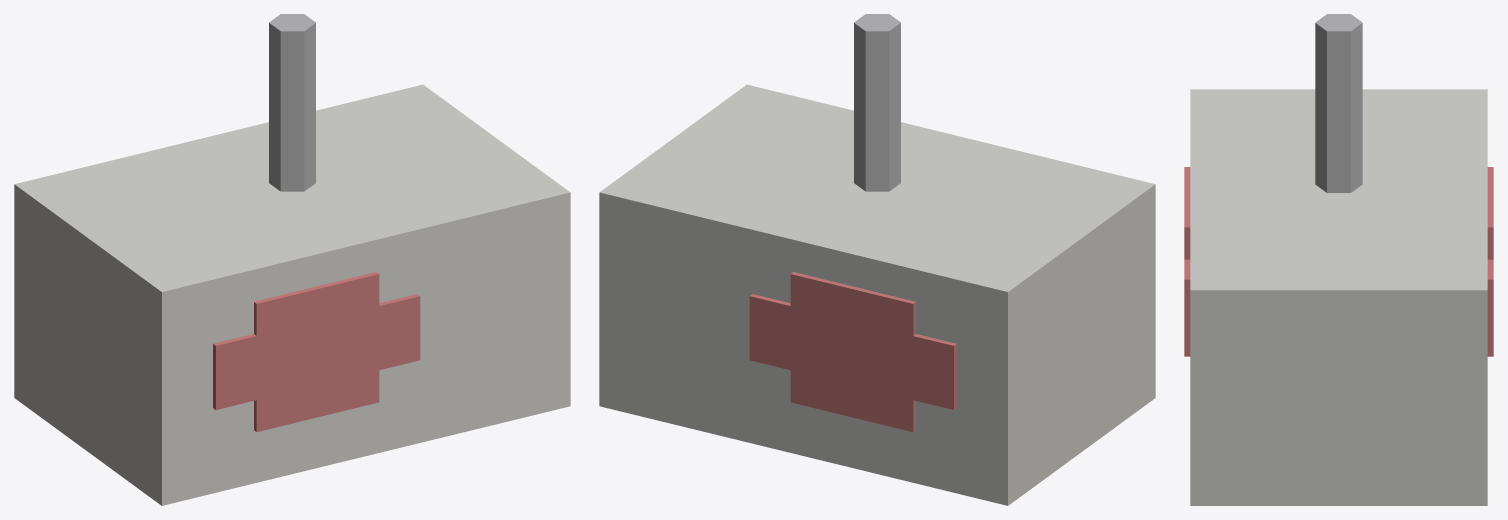
The model's file is kid_medico.glb.
3 views of the same model, side by side, from view 1: azimuth 30°, elevation 25°; view 2: azimuth 150°, elevation 25°; view 3: azimuth 270°, elevation 25° (orthographic).
Visible parts, largest first — view 1: KID_MEDICO_v01; view 2: KID_MEDICO_v01; view 3: KID_MEDICO_v01.
Part boxes in pixels (x1=…): KID_MEDICO_v01: x1=14, y1=14, x2=570, y2=505; KID_MEDICO_v01: x1=599, y1=14, x2=1155, y2=505; KID_MEDICO_v01: x1=1184, y1=14, x2=1493, y2=505.
Size of the model in its own units: 0.4 by 0.375 by 0.26.
